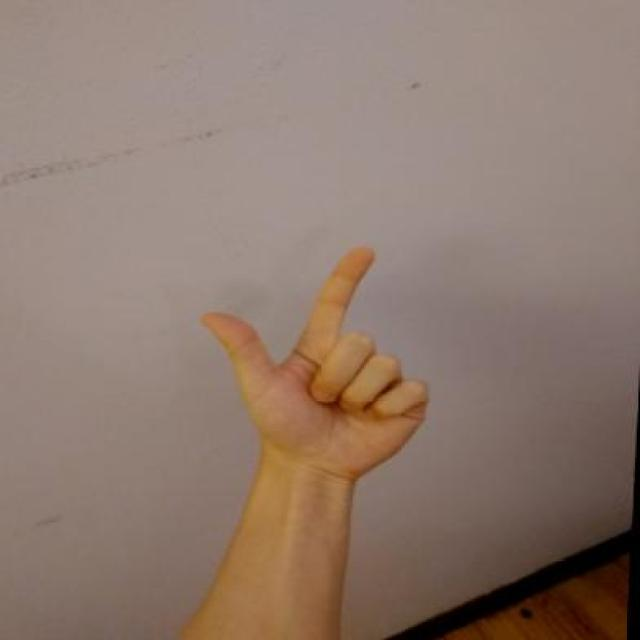L: (190, 231, 430, 488)
